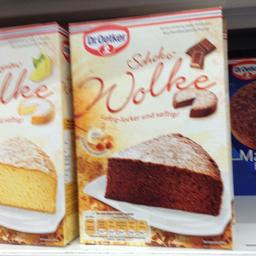cake: (66, 4, 236, 250), (0, 20, 69, 246)
